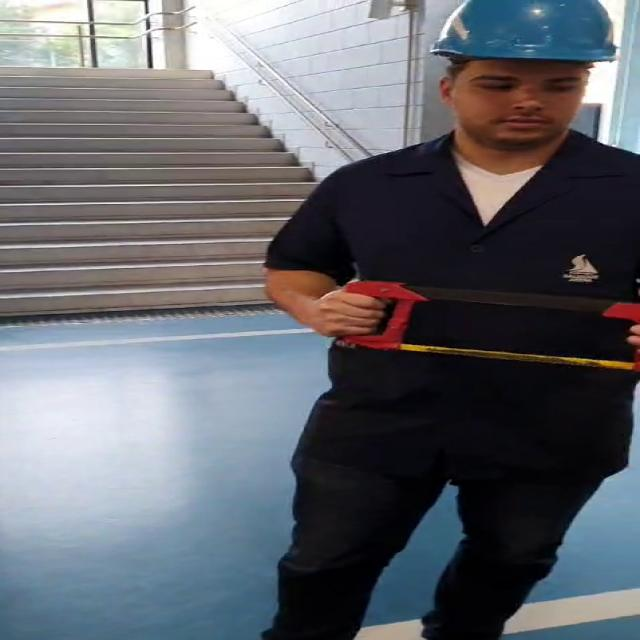sem_oculos: (435, 69, 592, 100)
